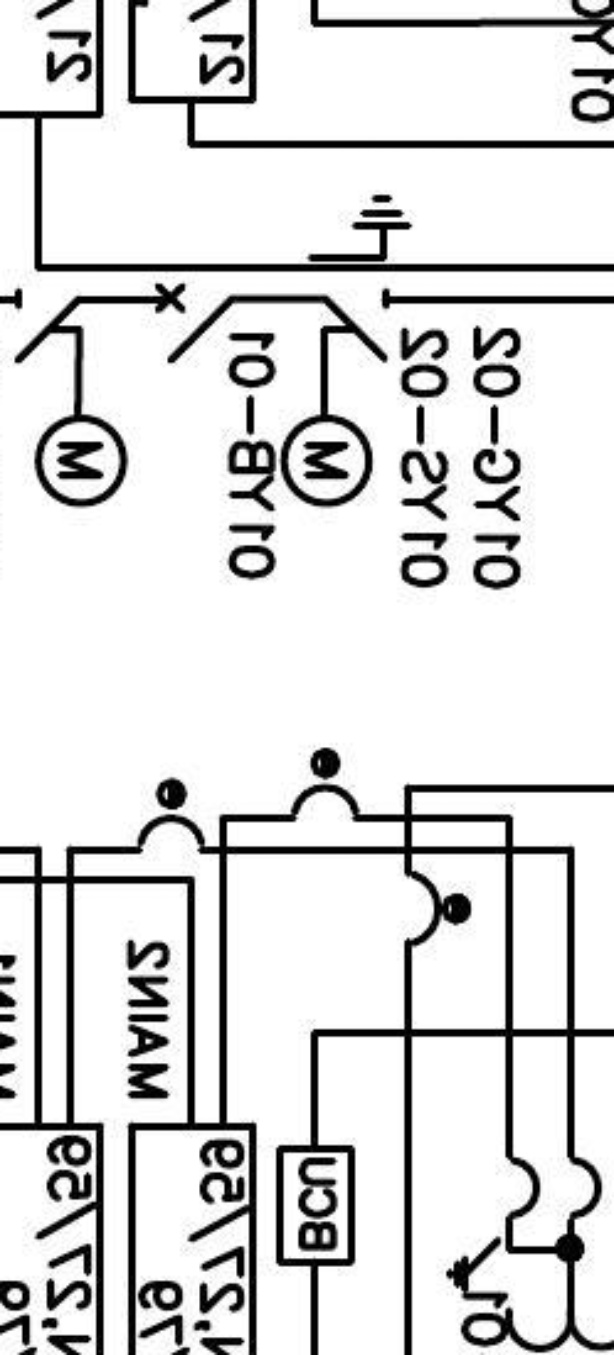115_1way_ds_w_motor: (13, 286, 129, 509)
115_3ways_ds_w_motor: (278, 193, 413, 510)
115_breaker: (154, 282, 235, 364)
BCU: (275, 1143, 356, 1268)
